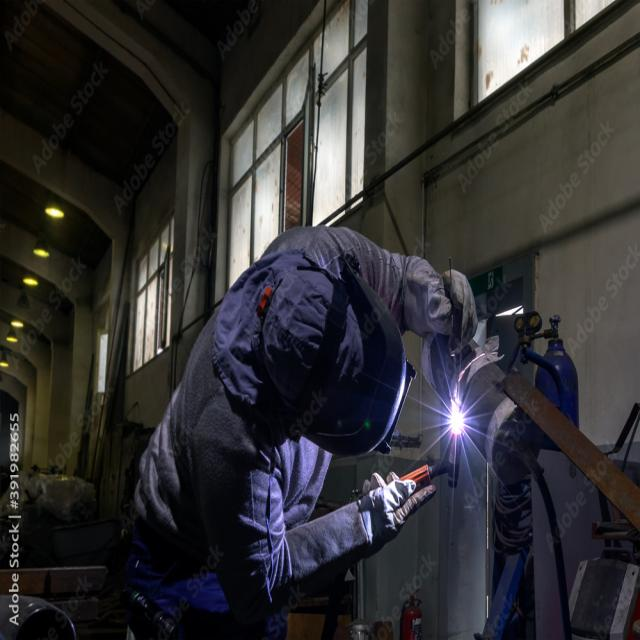welding: (450, 411, 470, 442)
